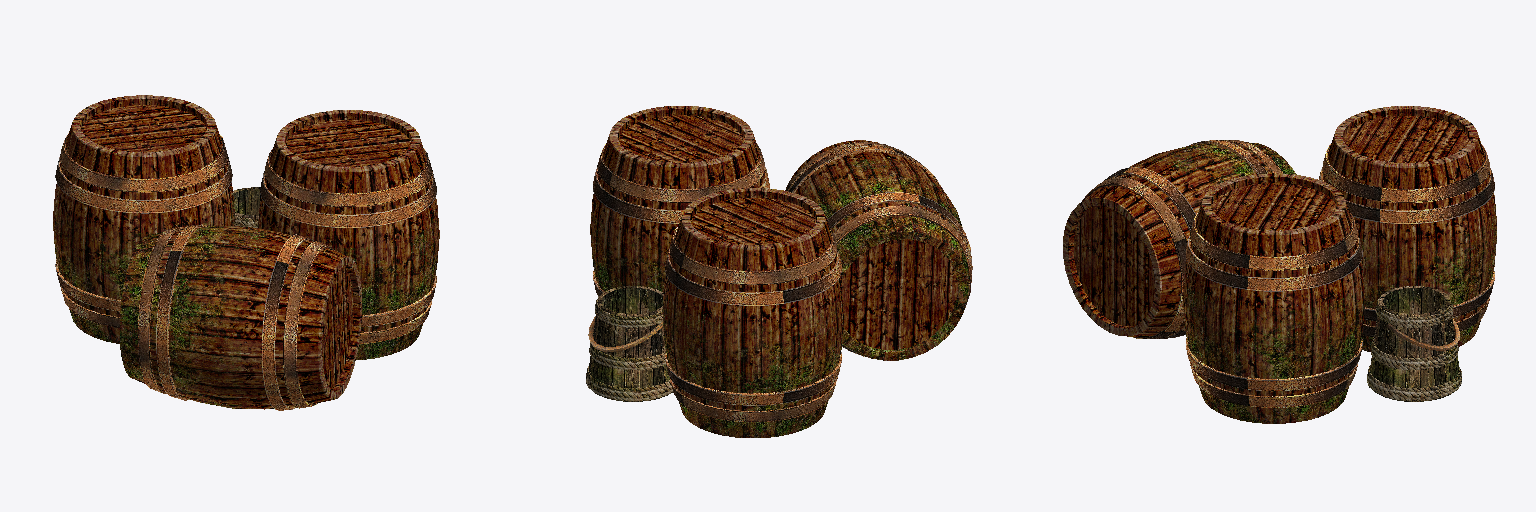
3 views of the same model, side by side, from view 1: azimuth 30°, elevation 25°; view 2: azimuth 150°, elevation 25°; view 3: azimuth 270°, elevation 25° (orthographic).
Visible parts, largest first — view 1: barrel:Wooden_barrel_04; view 2: barrel:Wooden_barrel_04; view 3: barrel:Wooden_barrel_04.
Part boxes in pixels (bbox=[...]): barrel:Wooden_barrel_04: bbox=[53, 95, 439, 410]; barrel:Wooden_barrel_04: bbox=[586, 106, 972, 437]; barrel:Wooden_barrel_04: bbox=[1063, 106, 1496, 423].
Bounding box in the file's own units: 175 × 95.47 × 196.
1 materials, 1 textured.